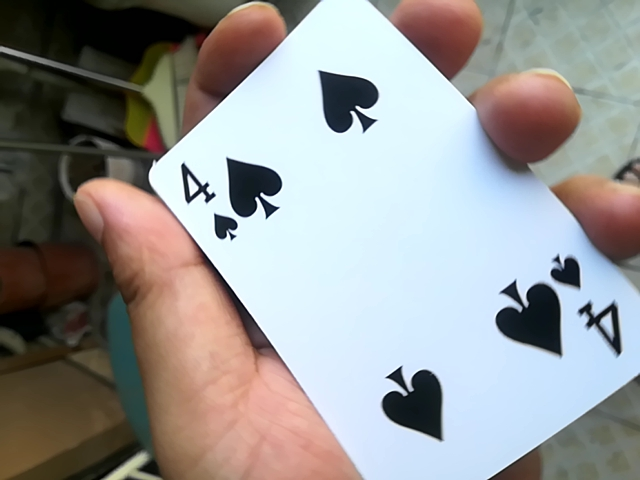ht 4: (130, 4, 629, 480)
